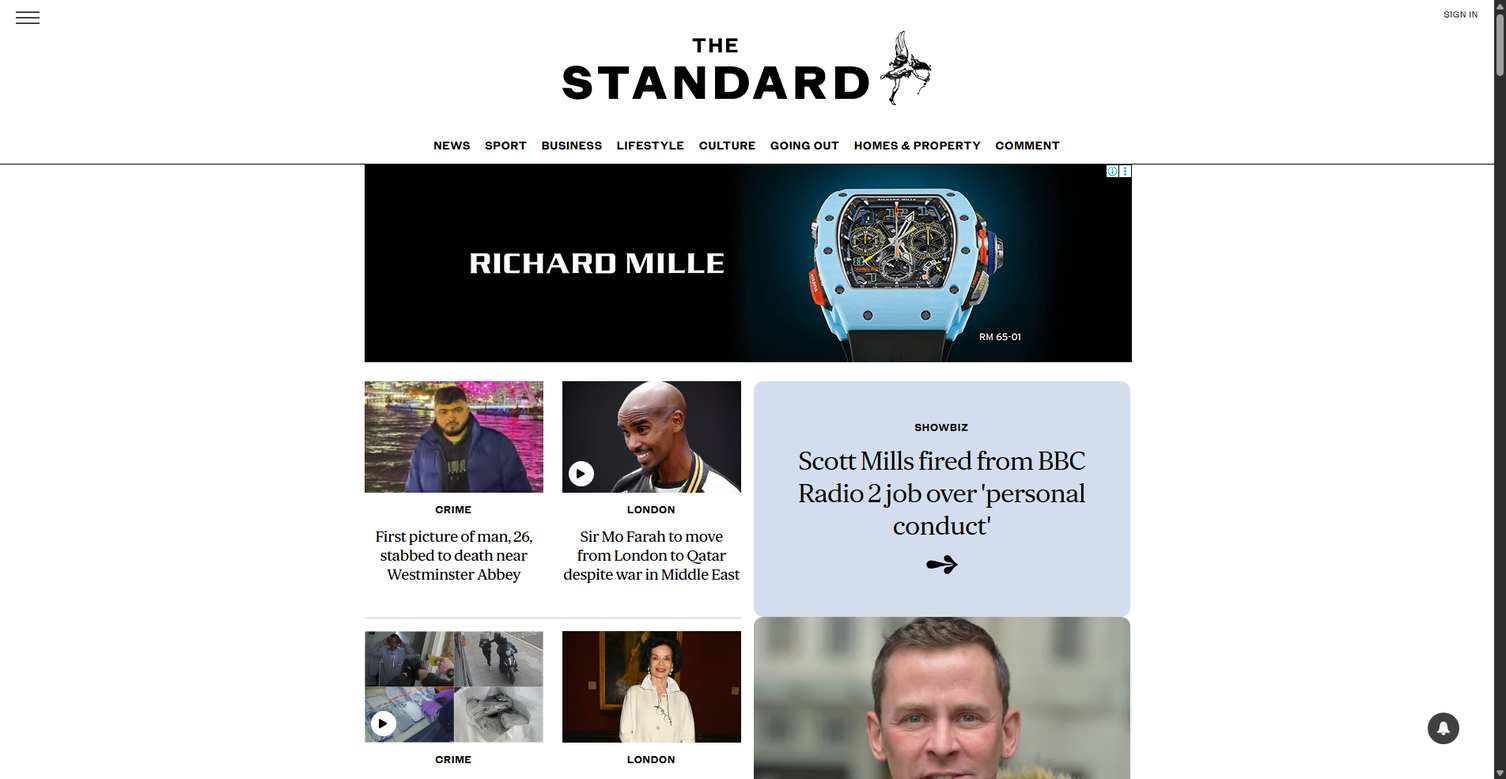button: (1428, 713, 1459, 744), (16, 11, 40, 25)
link: (753, 616, 1130, 779), (779, 445, 1105, 543), (563, 29, 932, 108), (364, 381, 543, 493), (562, 381, 741, 493), (364, 631, 543, 742), (562, 631, 741, 742), (364, 528, 543, 585), (562, 528, 741, 585), (854, 139, 981, 152), (770, 139, 840, 152), (617, 139, 685, 152), (996, 139, 1060, 152), (542, 139, 603, 152), (699, 139, 756, 152), (485, 139, 527, 152), (915, 423, 969, 433), (434, 139, 471, 152), (627, 755, 675, 765), (627, 506, 675, 515), (435, 755, 472, 765), (364, 777, 543, 779), (562, 777, 741, 779), (435, 506, 472, 515), (1444, 11, 1478, 17)
